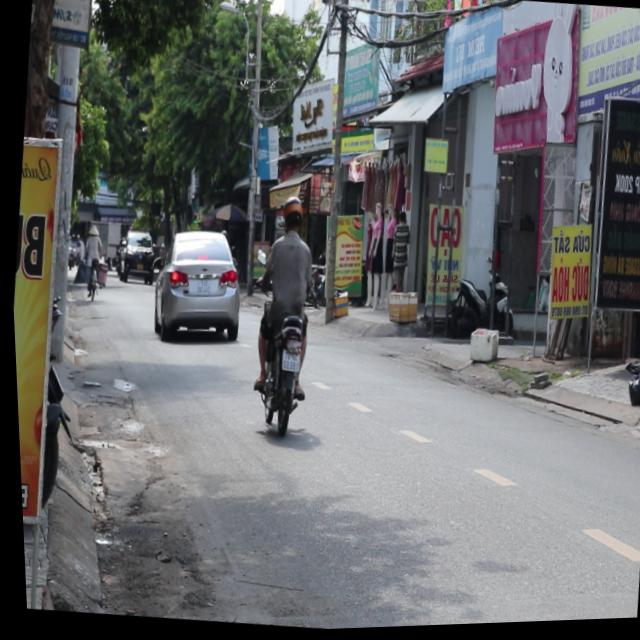helmet: (279, 195, 305, 235)
licenseplate: (235, 192, 329, 440)
nohelmet: (277, 349, 297, 374)
